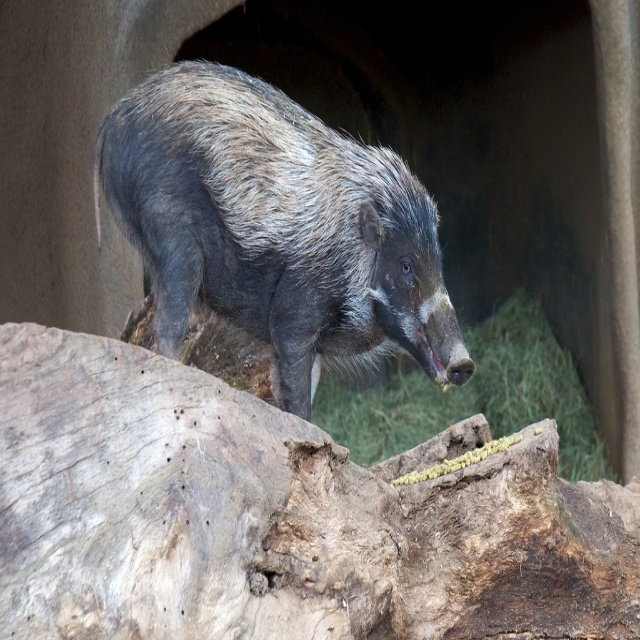Pig: (93, 41, 486, 423)
